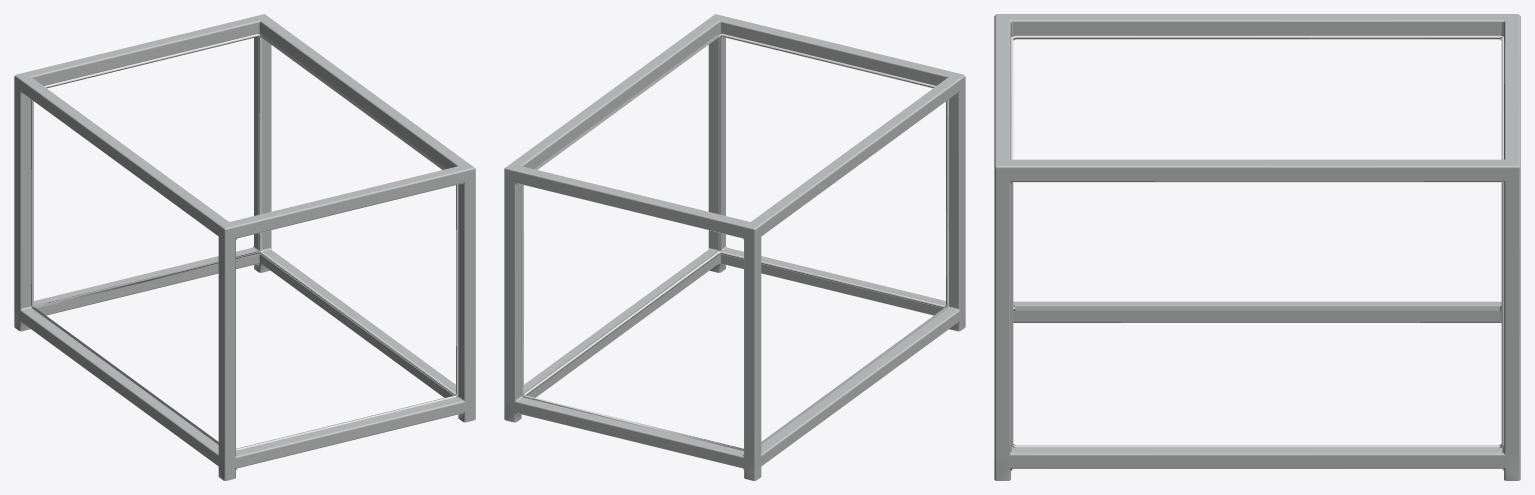
The model's file is Mesh_BarBoxFrame.fbx.
3 renders of one model, left to right at view 1: azimuth 30°, elevation 25°; view 2: azimuth 150°, elevation 25°; view 3: azimuth 270°, elevation 25°, orthographic. The views are drawn at different scales.
Parts seen in each view (by area): view 1: BarBoxFrame; view 2: BarBoxFrame; view 3: BarBoxFrame.
Boxes of the visible parts, bbox=[...] form: BarBoxFrame: bbox=[14, 14, 475, 480]; BarBoxFrame: bbox=[504, 14, 965, 480]; BarBoxFrame: bbox=[994, 14, 1520, 480].
Bounding box in the file's own units: 2.57 × 2.46 × 3.73.
